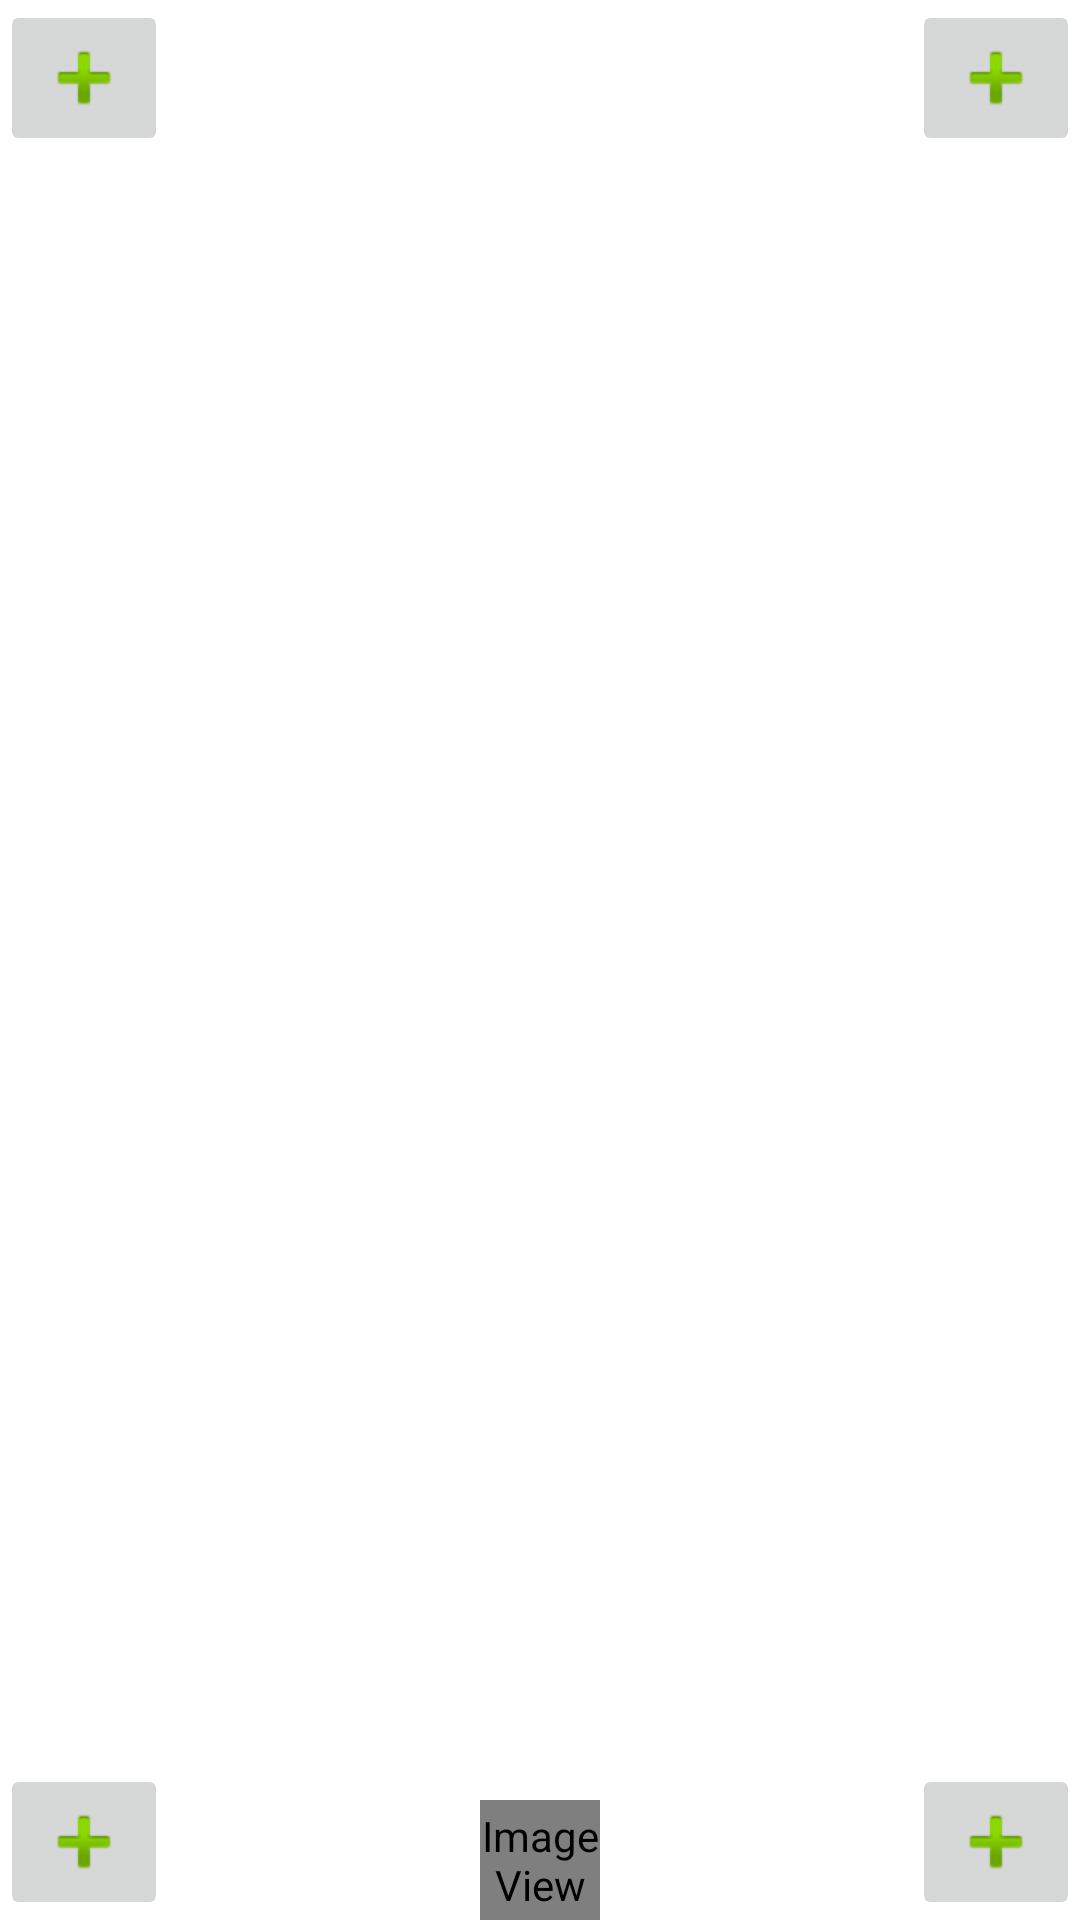

Point at icon controls on the screen. Image size 1080px x 1920px, points as [x,y].
add: [84,78], [996,78], [84,1842], [996,1842]
